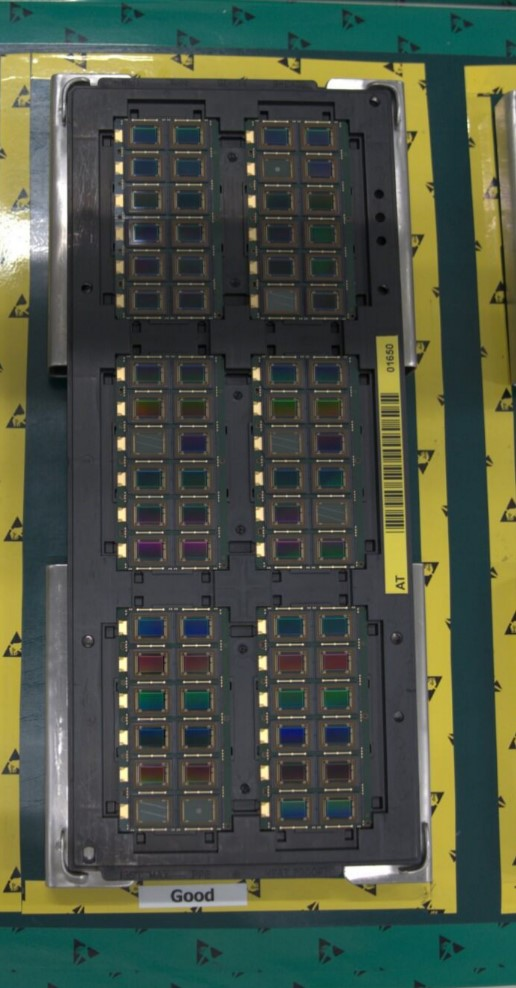Bad_mark_from_BMS_mold: (131, 795, 173, 826), (267, 426, 305, 457), (313, 497, 351, 528), (131, 430, 167, 456), (263, 290, 298, 314)
Bad_mark_from_Maker: (178, 795, 221, 828), (257, 153, 299, 184)
